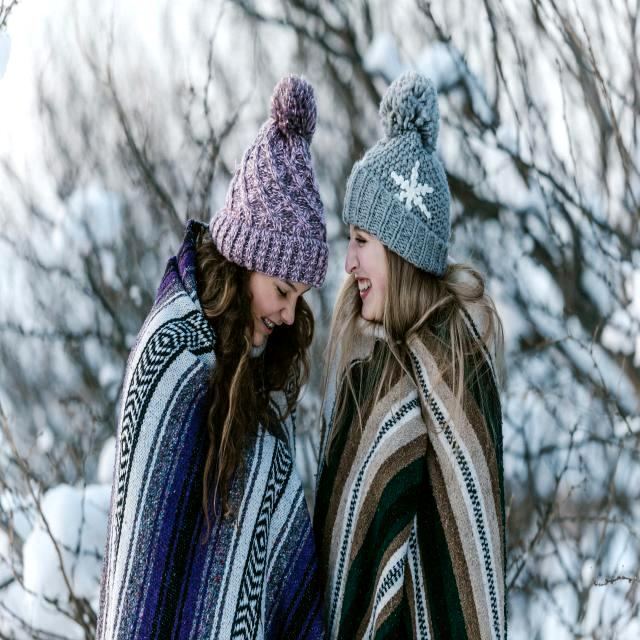no_hard_hat: (209, 75, 329, 287), (343, 72, 450, 276)
person: (94, 72, 326, 640), (313, 73, 506, 640)
